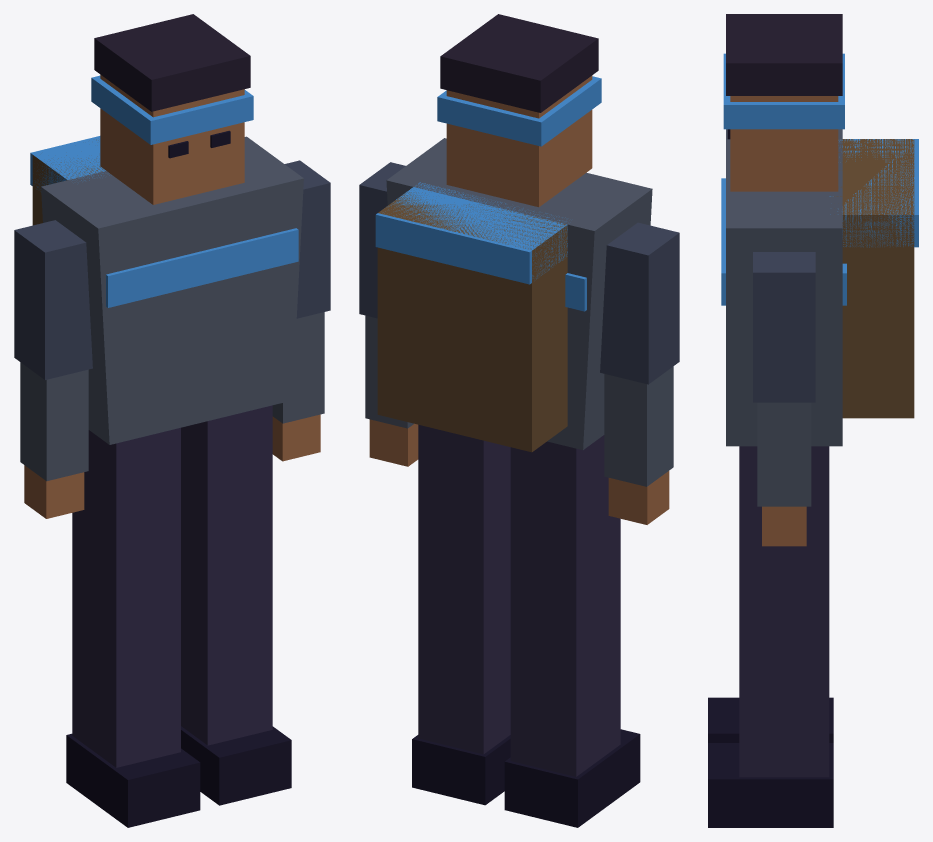
Rendered from survivor_arjun.glb.
3 renders of one model, left to right at view 1: azimuth 30°, elevation 25°; view 2: azimuth 150°, elevation 25°; view 3: azimuth 270°, elevation 25°, orthographic. The views are drawn at different scales.
Parts seen in each view (by area): view 1: torso, leg_R, leg_L, head, arm_R, arm_L; view 2: torso, leg_R, leg_L, head, arm_R, arm_L; view 3: torso, leg_L, head, arm_L, leg_R.
Boxes of the visible parts, left/top/right/bottom form: torso: left=30, top=136, right=303, bottom=444; leg_R: left=66, top=427, right=200, bottom=827; leg_L: left=181, top=405, right=291, bottom=805; head: left=91, top=14, right=253, bottom=204; arm_R: left=14, top=220, right=92, bottom=518; arm_L: left=272, top=160, right=330, bottom=461; torso: left=375, top=138, right=652, bottom=452; leg_R: left=504, top=435, right=640, bottom=827; leg_L: left=412, top=424, right=510, bottom=805; head: left=437, top=14, right=601, bottom=207; arm_R: left=600, top=222, right=679, bottom=524; arm_L: left=359, top=162, right=418, bottom=466; torso: left=721, top=129, right=918, bottom=446; leg_L: left=708, top=446, right=833, bottom=827; head: left=723, top=14, right=844, bottom=191; arm_L: left=753, top=252, right=815, bottom=546; leg_R: left=708, top=697, right=833, bottom=742.
Size of the model in its own units: 0.75 by 1.84 by 0.47.
